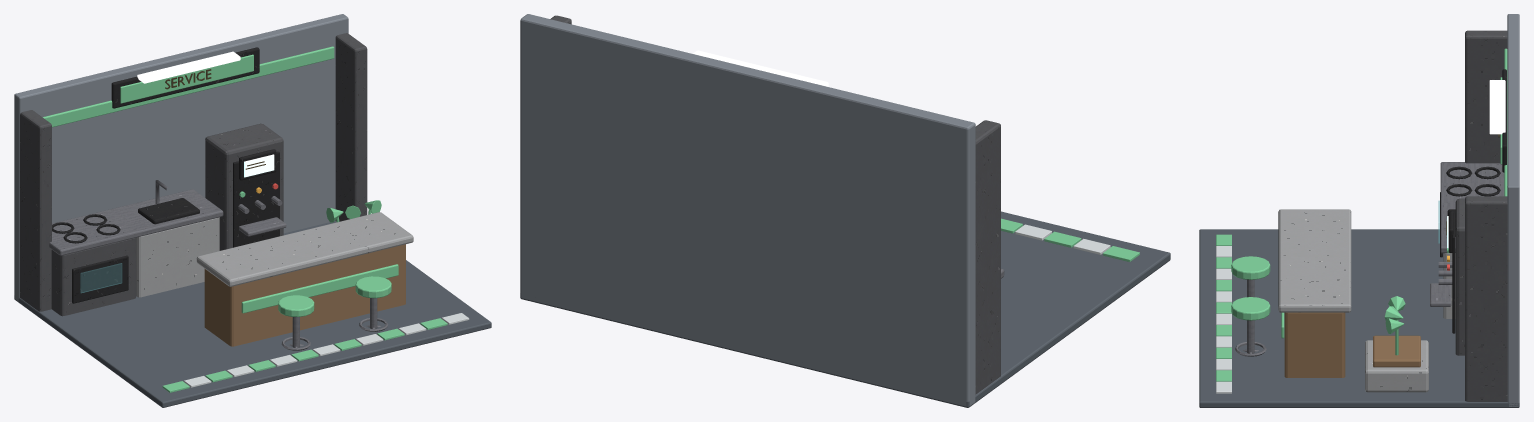
File: department_service_starter.glb
3 renders of one model, left to right at view 1: azimuth 30°, elevation 25°; view 2: azimuth 150°, elevation 25°; view 3: azimuth 270°, elevation 25°, orthographic. The views are drawn at different scales.
Parts seen in each view (by area): view 1: DEPT_Service__Back_Wall, DEPT_Service__Floor, DEPT_Service__Bar_Base, DEPT_Service__Bar_Top, DEPT_Service__Left_Pilaster, DEPT_Service__Right_Pilaster, DEPT_Service__Sink_Cabinet, DEPT_Service__Drink_Dispenser, DEPT_Service__Range_Body, DEPT_Service__Drink_Dispenser_Face, DEPT_Service__Back_Wall_Accent, DEPT_Service__Range_Top (+13 smaller); view 2: DEPT_Service__Back_Wall, DEPT_Service__Floor, DEPT_Service__Left_Pilaster, DEPT_Service__Ceiling_Light; view 3: DEPT_Service__Floor, DEPT_Service__Right_Pilaster, DEPT_Service__Bar_Top, DEPT_Service__Back_Wall, DEPT_Service__Left_Pilaster, DEPT_Service__Bar_Base, DEPT_Service__Hydro_Tray, DEPT_Service__Range_Top, DEPT_Service__Drink_Dispenser, DEPT_Service__Hydro_Soil, DEPT_Service__Ceiling_Light, DEPT_Service__Bar_Stool_Left_Seat (+7 smaller).
Part boxes in pixels (x1,y1,x2,y2): DEPT_Service__Back_Wall: (14, 14, 348, 301); DEPT_Service__Floor: (14, 221, 491, 407); DEPT_Service__Bar_Base: (204, 244, 405, 346); DEPT_Service__Bar_Top: (196, 212, 413, 286); DEPT_Service__Left_Pilaster: (20, 110, 51, 311); DEPT_Service__Right_Pilaster: (335, 33, 367, 221); DEPT_Service__Sink_Cabinet: (136, 217, 219, 297); DEPT_Service__Drink_Dispenser: (205, 123, 283, 250); DEPT_Service__Range_Body: (51, 238, 135, 316); DEPT_Service__Drink_Dispenser_Face: (233, 151, 279, 247); DEPT_Service__Back_Wall_Accent: (42, 46, 334, 127); DEPT_Service__Range_Top: (49, 209, 139, 255); DEPT_Service__Back_Wall: (520, 14, 975, 406); DEPT_Service__Floor: (520, 211, 1170, 407); DEPT_Service__Left_Pilaster: (975, 120, 1000, 394); DEPT_Service__Ceiling_Light: (693, 50, 828, 86); DEPT_Service__Floor: (1199, 229, 1519, 407); DEPT_Service__Right_Pilaster: (1465, 196, 1507, 401); DEPT_Service__Bar_Top: (1278, 209, 1351, 312); DEPT_Service__Back_Wall: (1507, 14, 1519, 406); DEPT_Service__Left_Pilaster: (1465, 30, 1507, 163); DEPT_Service__Bar_Base: (1284, 312, 1345, 377); DEPT_Service__Hydro_Tray: (1365, 340, 1428, 392); DEPT_Service__Range_Top: (1440, 162, 1504, 203); DEPT_Service__Drink_Dispenser: (1455, 198, 1464, 355); DEPT_Service__Hydro_Soil: (1373, 335, 1420, 367); DEPT_Service__Ceiling_Light: (1489, 80, 1505, 134); DEPT_Service__Bar_Stool_Left_Seat: (1231, 256, 1270, 279).
Size of the model in its own units: 4.6 by 2.75 by 3.6.
Materials: 15 (4 with a texture image).
